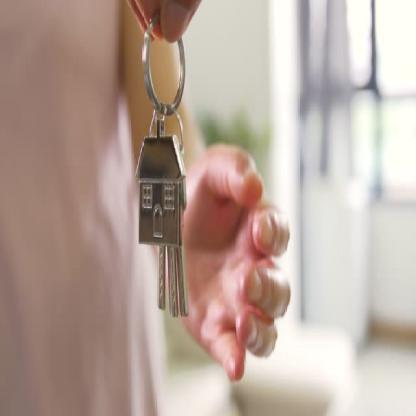keys: (139, 127, 194, 324)
